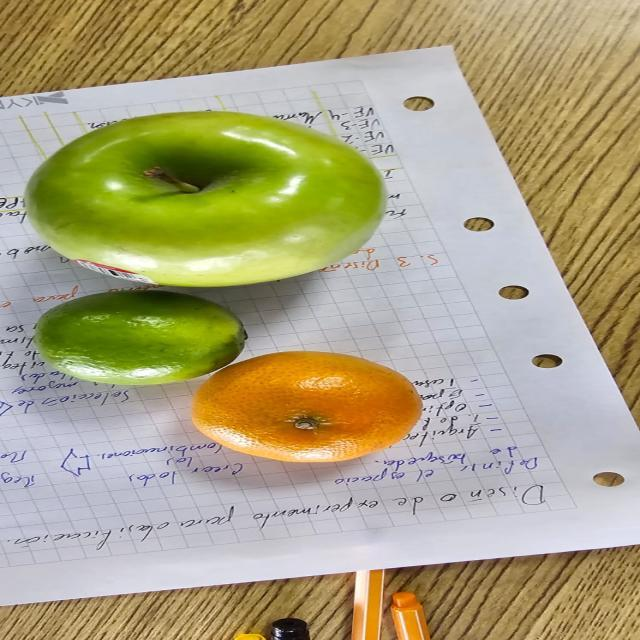Apel Granny Smith: (17, 108, 418, 291)
Jeruk Mandarin: (169, 347, 448, 475)
Lemon: (26, 288, 288, 389)
